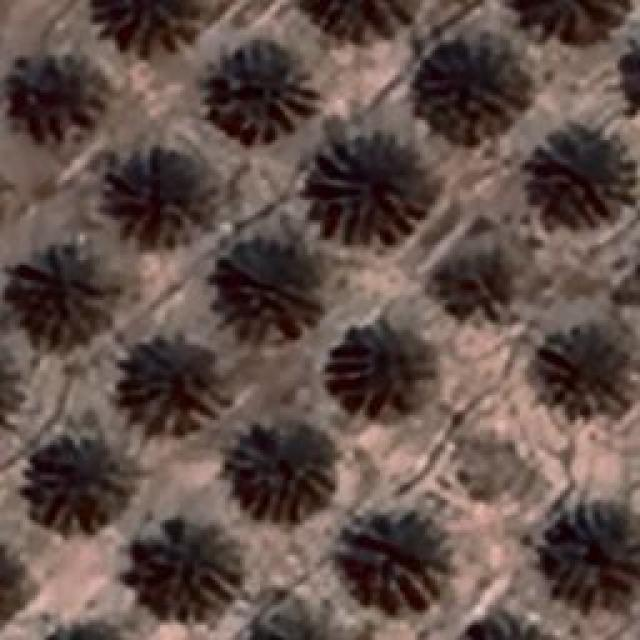PalmTree: (135, 510, 245, 622), (222, 420, 336, 522), (205, 40, 320, 140), (332, 510, 448, 608), (315, 137, 420, 245), (120, 337, 230, 435), (530, 320, 635, 415), (30, 442, 125, 546), (13, 242, 106, 348), (328, 322, 440, 410), (118, 156, 218, 254), (418, 34, 516, 132), (428, 222, 524, 318), (546, 129, 636, 229), (552, 502, 638, 600), (218, 244, 302, 336), (12, 46, 92, 134), (94, 0, 207, 52), (301, 0, 420, 47), (511, 0, 630, 47), (450, 604, 569, 640), (238, 600, 338, 640), (35, 610, 140, 640), (0, 530, 30, 624), (0, 334, 29, 427)
